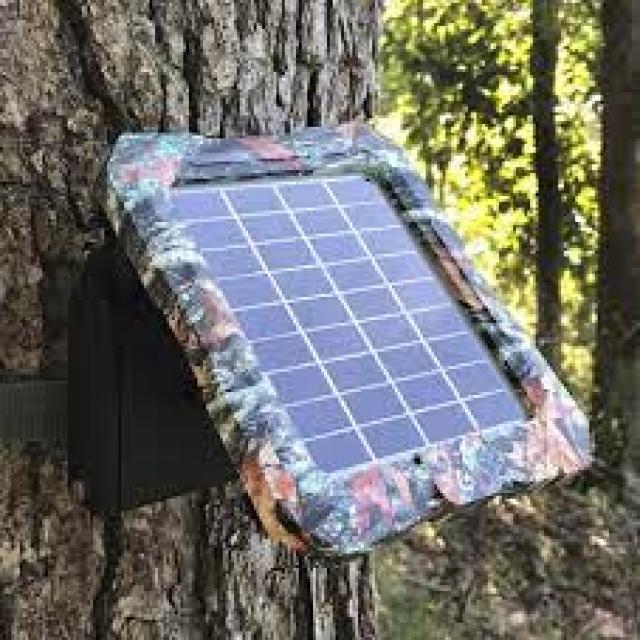no faulty: (169, 170, 529, 479)
